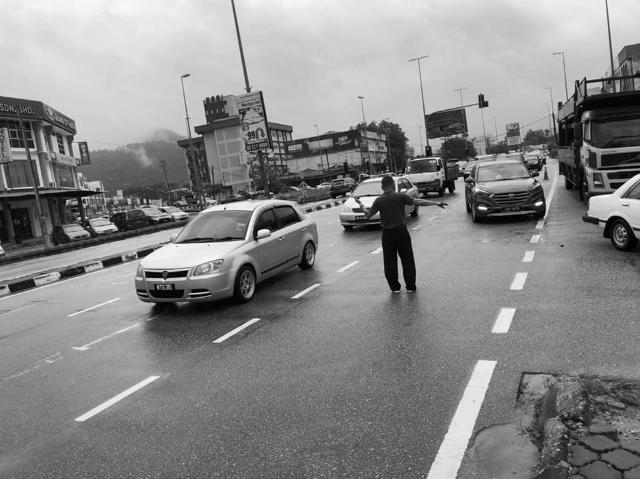Pothole: (463, 419, 543, 479), (516, 370, 558, 412)
